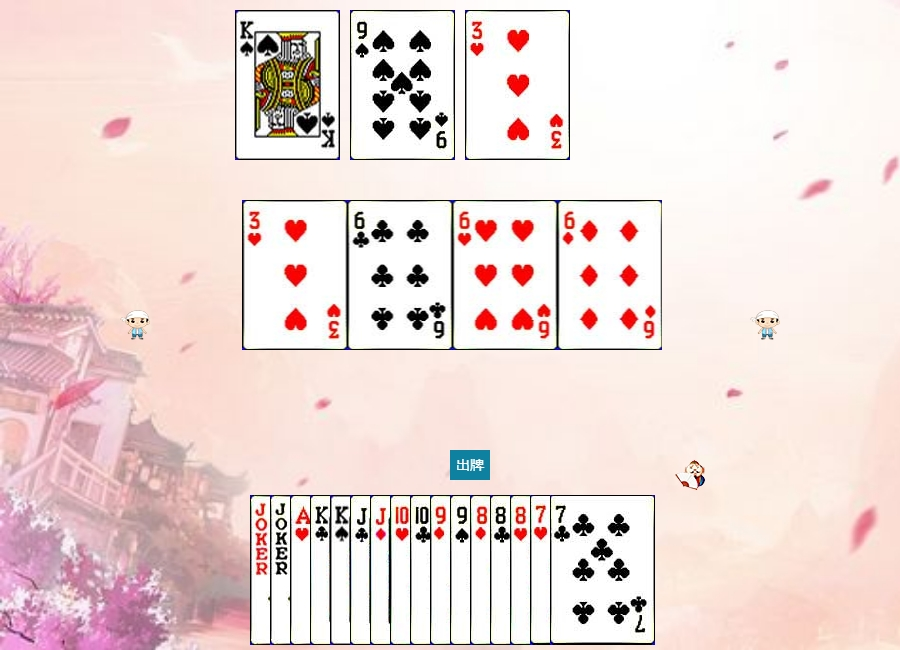10~2: (410, 495, 515, 645)
10~3: (390, 495, 495, 645)
11~1: (370, 495, 475, 645)
11~2: (350, 495, 455, 645)
13~2: (310, 495, 415, 645)
13~4: (235, 10, 340, 160), (330, 495, 435, 645)
14~3: (290, 495, 395, 645)
17~3: (270, 495, 375, 645)
18~4: (250, 495, 355, 645)
3~3: (465, 10, 570, 160), (243, 200, 348, 350)
6~1: (558, 200, 663, 350)
6~2: (348, 200, 453, 350)
6~3: (453, 200, 558, 350)
7~2: (550, 495, 655, 645)
7~3: (530, 495, 635, 645)
8~1: (470, 495, 575, 645)
8~2: (490, 495, 595, 645)
8~3: (510, 495, 615, 645)
9~1: (430, 495, 535, 645)
9~4: (350, 10, 455, 160), (450, 495, 555, 645)
